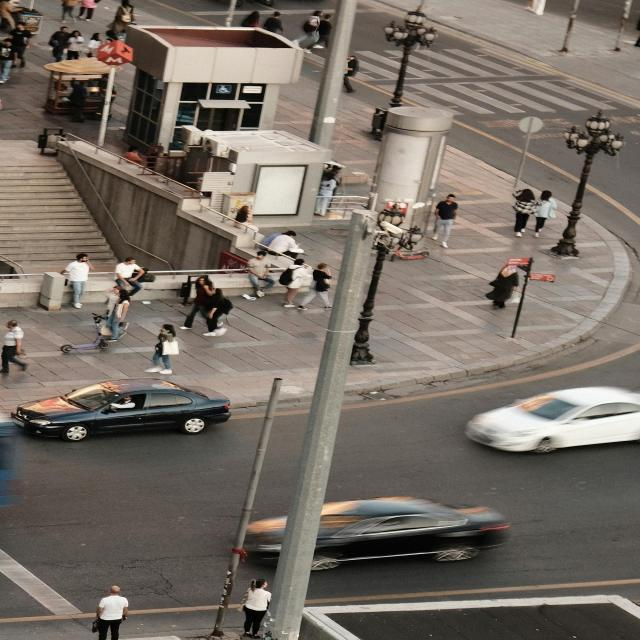bus: (0, 387, 17, 544)
car: (318, 496, 509, 568), (16, 376, 232, 439), (462, 386, 640, 456)
